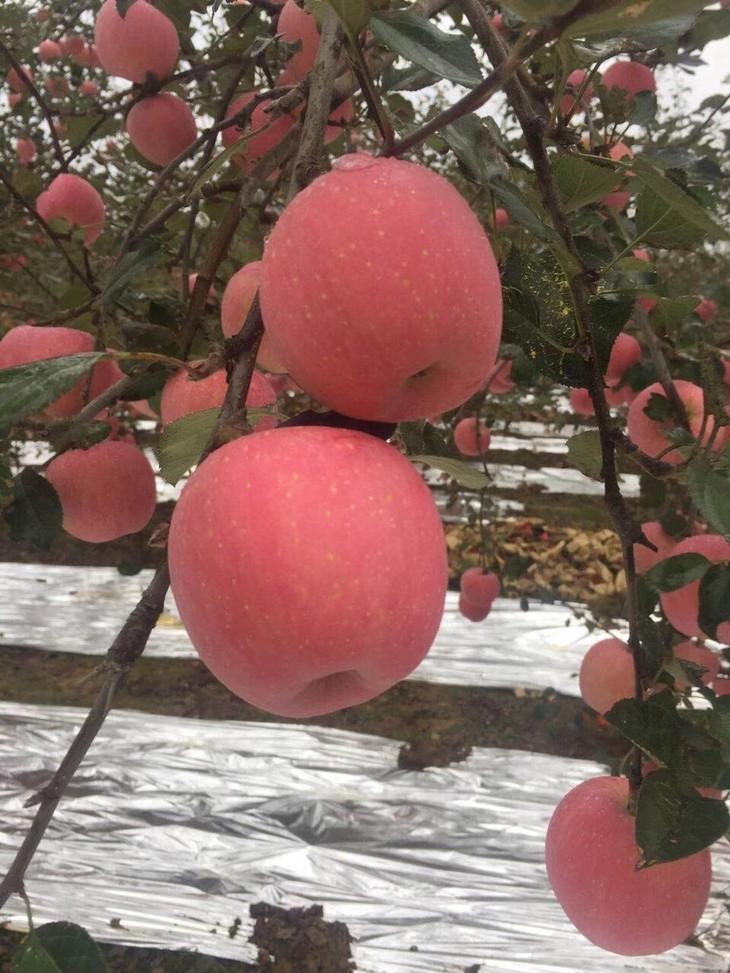apple: (165, 419, 448, 702), (241, 155, 507, 424), (543, 774, 715, 960), (577, 637, 639, 717), (36, 174, 104, 235)
